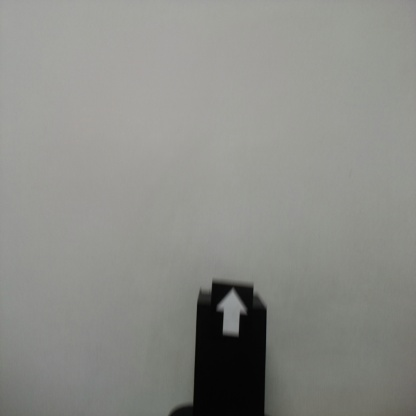id_1: (212, 282, 253, 345)
